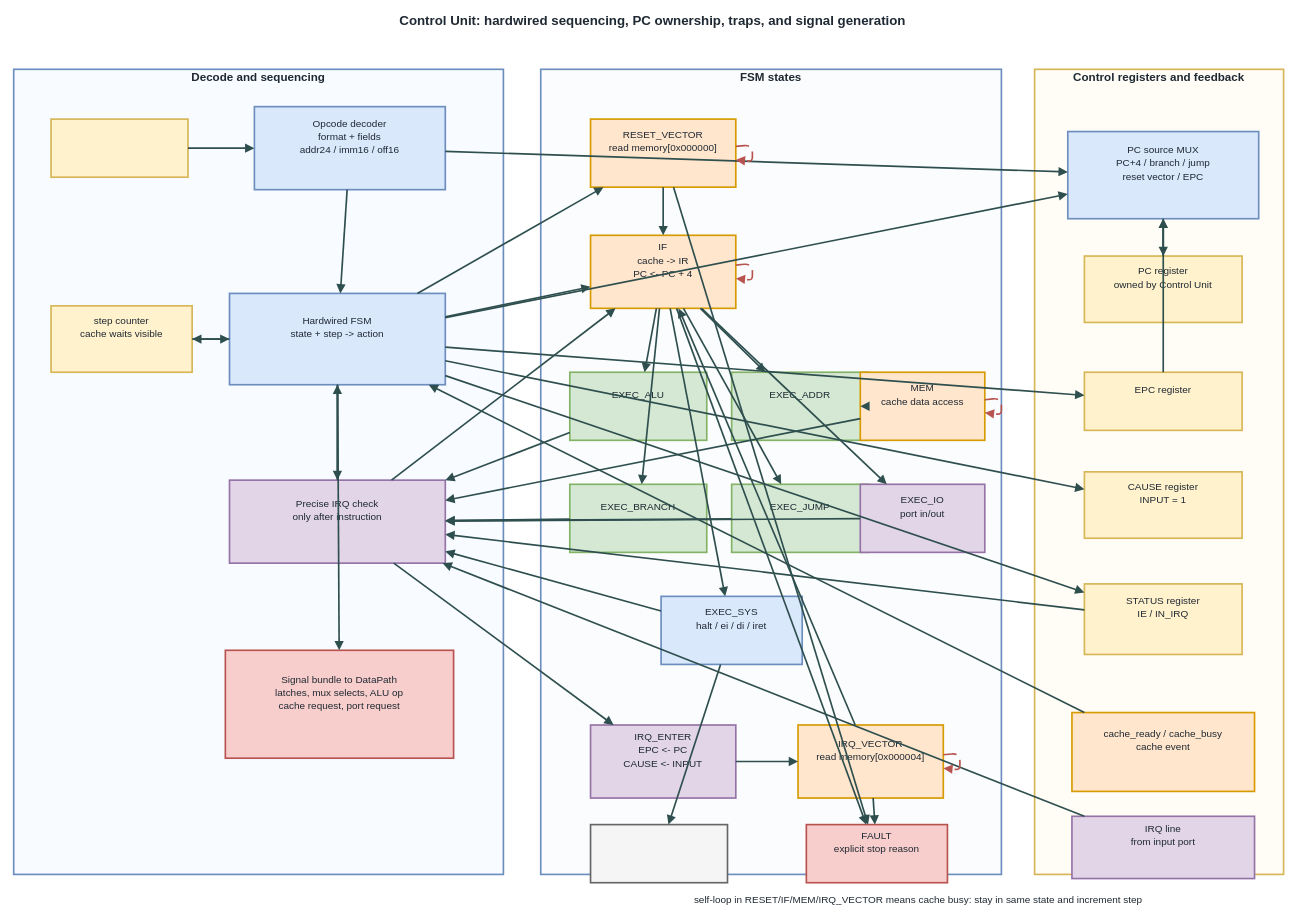
The diagram is 1297 pixels wide and 920 high, and some of its shapes have lost their labels. The shapes that lost their labels are listed below. From the top down, each one's centre as x and y in pixels, then its label:
(119,148): IR from DataPath
(658,853): HALTED
